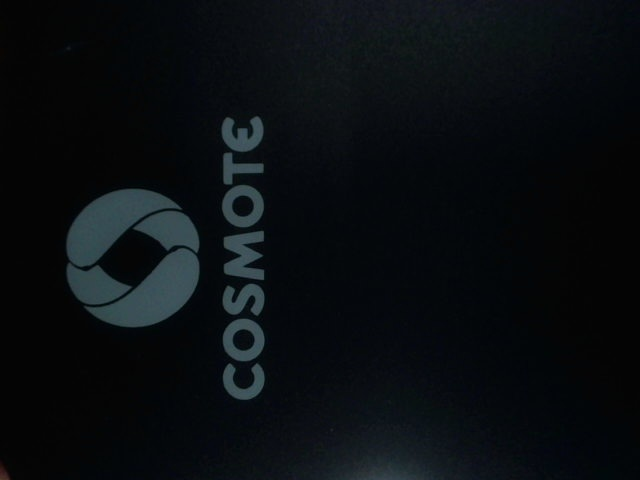AU_COSMOTE: (54, 110, 278, 402)
